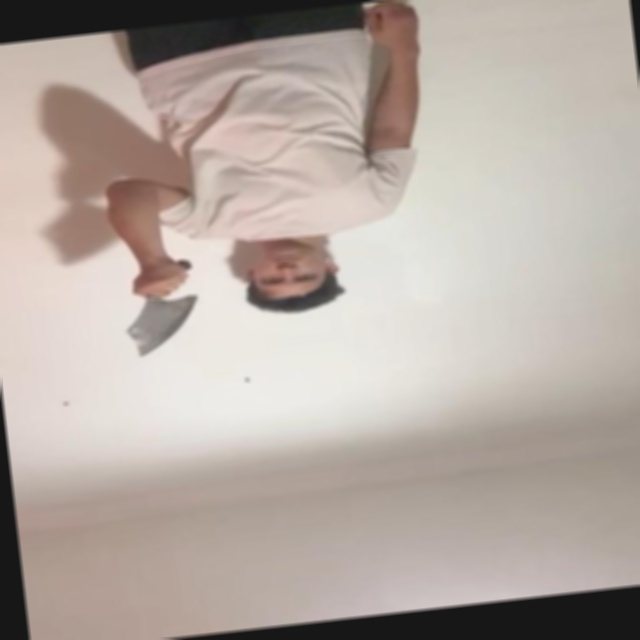Sharp-Object: (118, 295, 203, 362)
